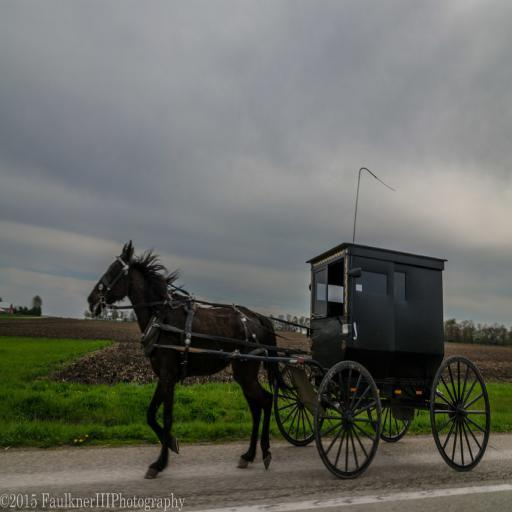Horse: (87, 239, 293, 481)
